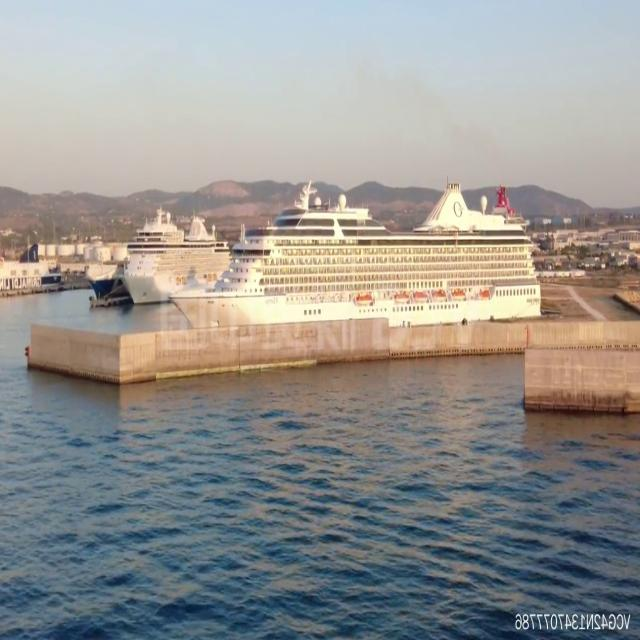passenger ship: (176, 181, 544, 331), (119, 214, 233, 306)
